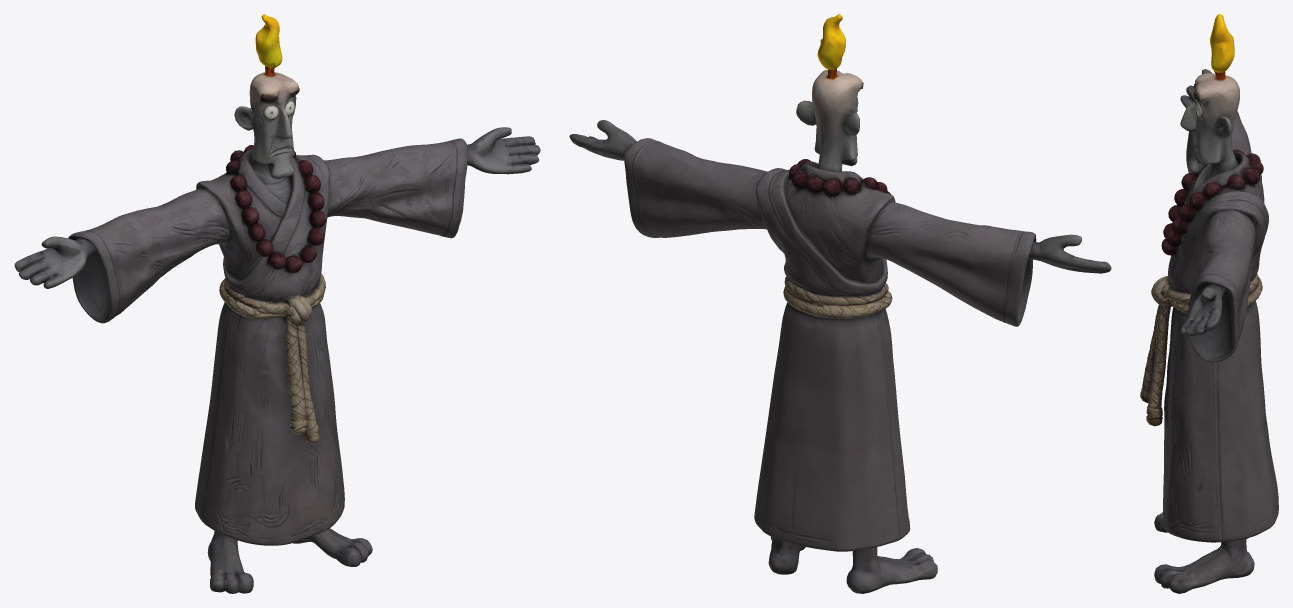
File: brother_ash.glb
3 renders of one model, left to right at view 1: azimuth 30°, elevation 25°; view 2: azimuth 150°, elevation 25°; view 3: azimuth 270°, elevation 25°, orthographic. The views are drawn at different scales.
Visible parts, largest first — view 1: tripo_node_f17fae9d-a527-4f2d-b331-aeb58a9d03a7; view 2: tripo_node_f17fae9d-a527-4f2d-b331-aeb58a9d03a7; view 3: tripo_node_f17fae9d-a527-4f2d-b331-aeb58a9d03a7.
Boxes of the visible parts, x1,y1,x2,y2 form: tripo_node_f17fae9d-a527-4f2d-b331-aeb58a9d03a7: [14, 14, 540, 593]; tripo_node_f17fae9d-a527-4f2d-b331-aeb58a9d03a7: [569, 14, 1111, 593]; tripo_node_f17fae9d-a527-4f2d-b331-aeb58a9d03a7: [1140, 14, 1278, 593].
Size of the model in its own units: 0.9792 by 0.9805 by 0.2283.
1 material, 1 textured.
